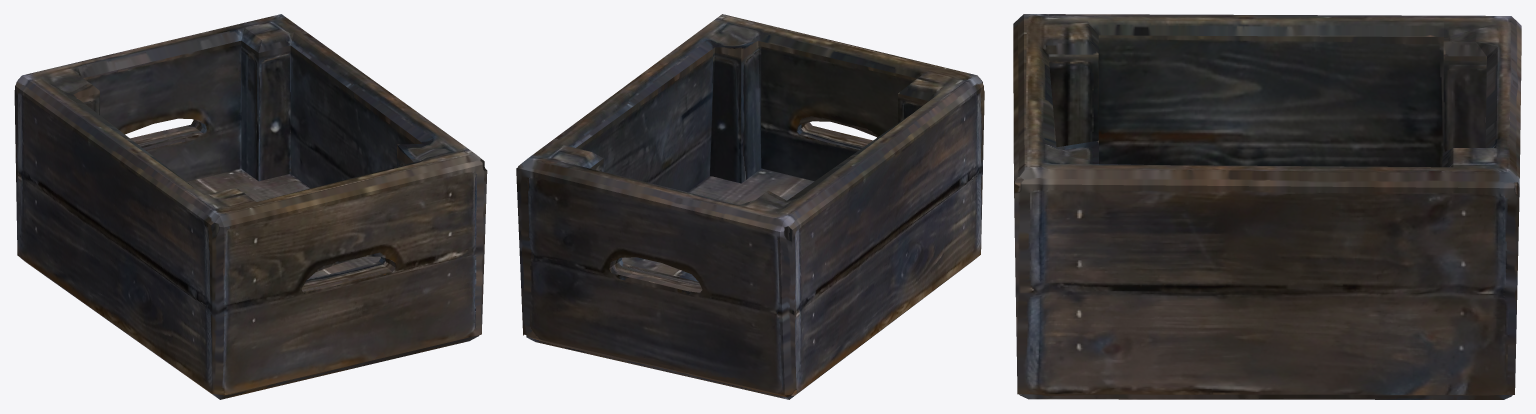
File: LådaSmall.fbx
3 renders of one model, left to right at view 1: azimuth 30°, elevation 25°; view 2: azimuth 150°, elevation 25°; view 3: azimuth 270°, elevation 25°, orthographic. The views are drawn at different scales.
Visible parts, largest first — view 1: Cube; view 2: Cube; view 3: Cube.
Boxes of the visible parts, x1,y1,x2,y2 form: Cube: (14,14,487,399); Cube: (516,14,984,399); Cube: (1013,14,1521,399).
Bounding box in the file's own units: 43.62 × 28.55 × 56.33.
Materials: 1 (1 with a texture image).
